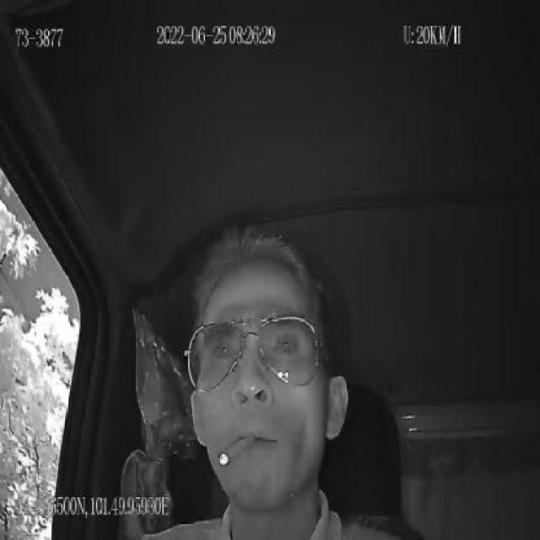smoking: (217, 433, 257, 466)
